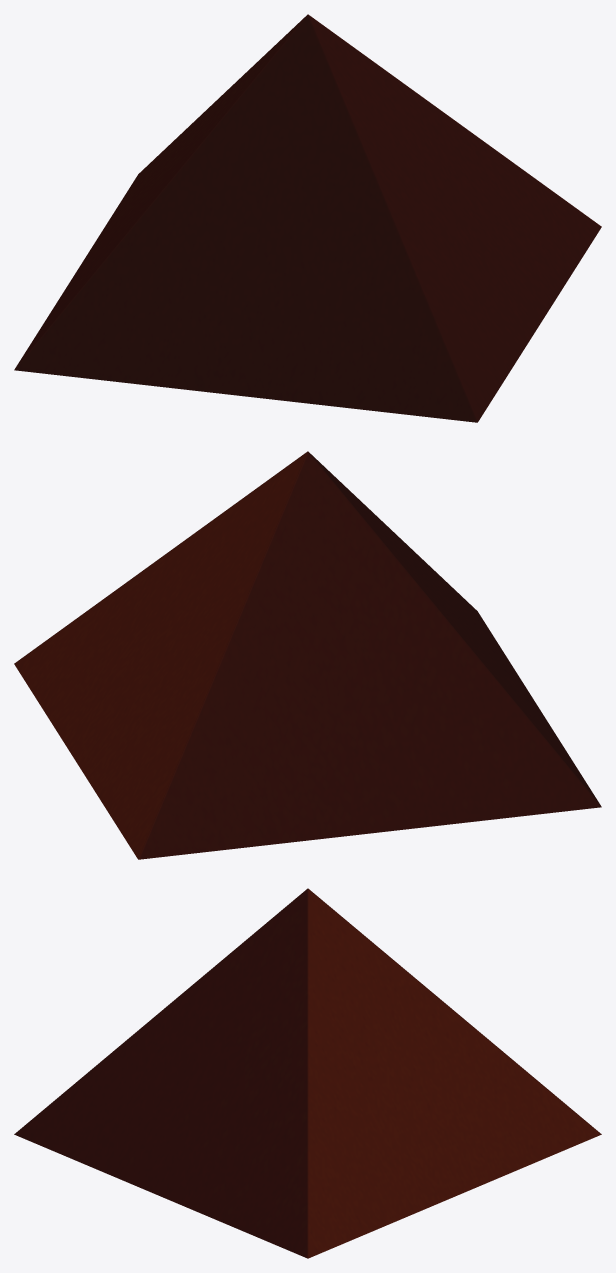
File: child3.gltf
The picture shows the model from 3 angles, top to bottom: view 1: azimuth 30°, elevation 25°; view 2: azimuth 150°, elevation 25°; view 3: azimuth 270°, elevation 25°; orthographic projection. The views are drawn at different scales.
Visible parts, largest first — view 1: Cone.001; view 2: Cone.001; view 3: Cone.001.
Boxes of the visible parts, <box> form: Cone.001: <box>14,14,601,422</box>; Cone.001: <box>14,451,601,859</box>; Cone.001: <box>14,888,601,1258</box>.
Bounding box in the file's own units: 2.4 × 1.11 × 2.4.
Materials: 1 (1 with a texture image).
